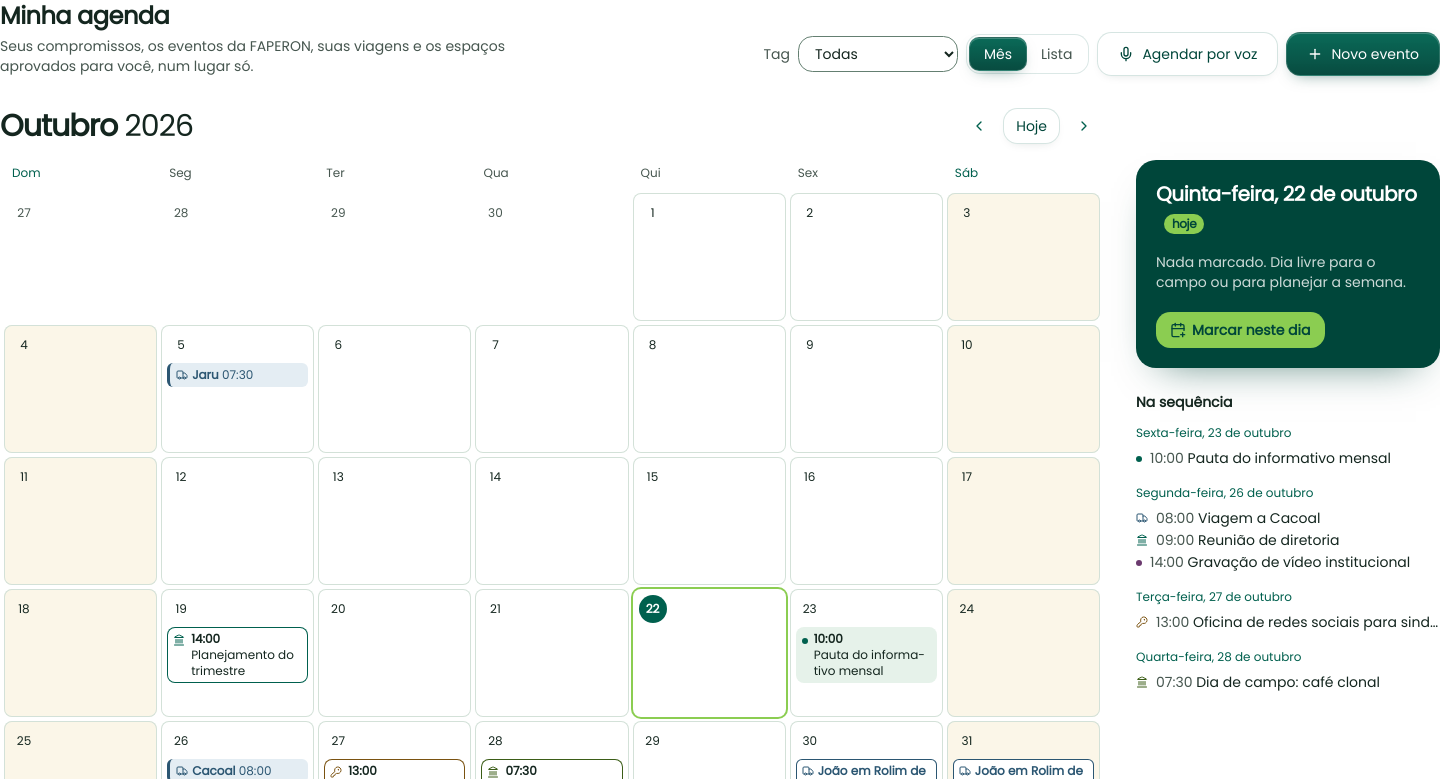
Test case: Agenda individual › valida título e horário
The width and height of the screenshot is (1440, 779).
Click the button "Novo evento" at [1363, 54], box x1=1286 y1=32 x2=1439 y2=76
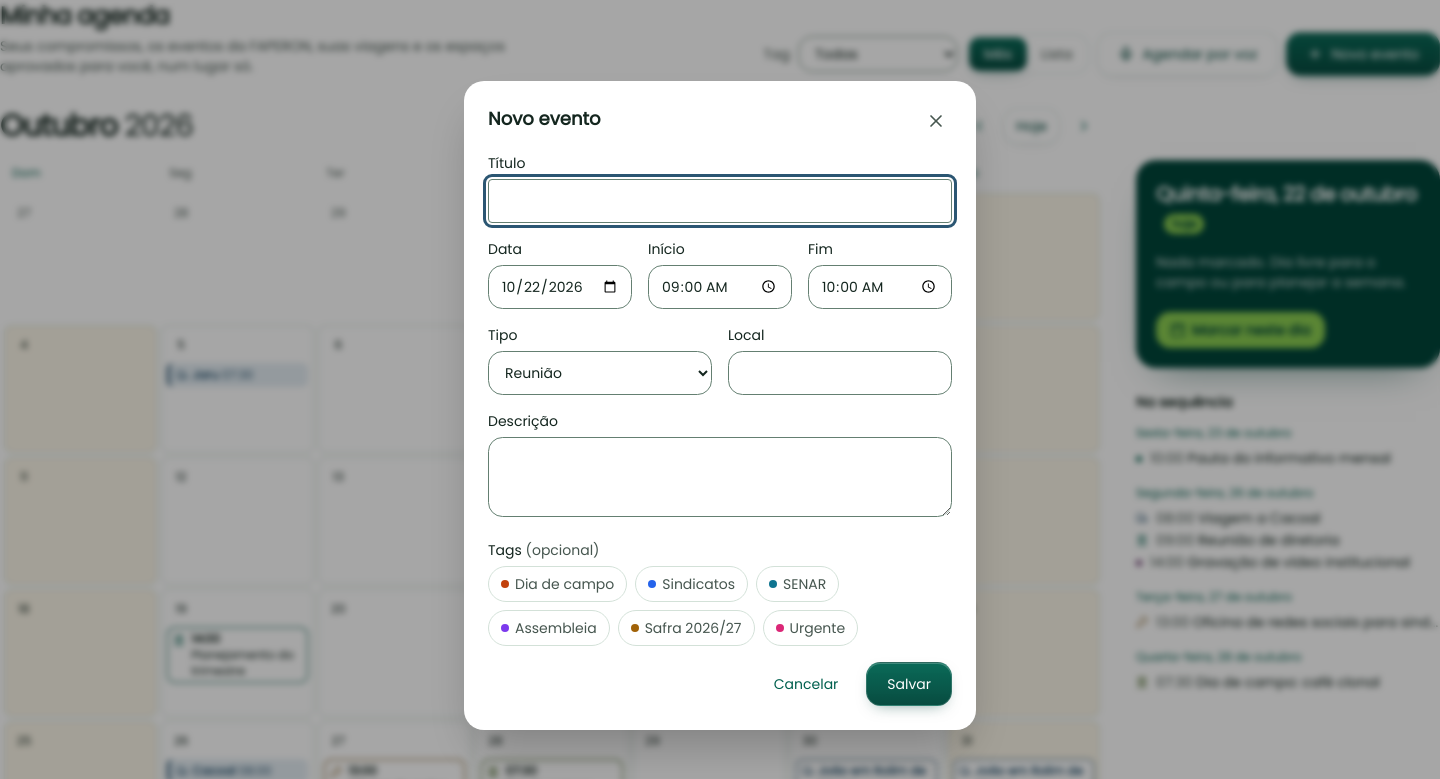
Click the button "Salvar" at [909, 684], box x1=866 y1=662 x2=952 y2=706
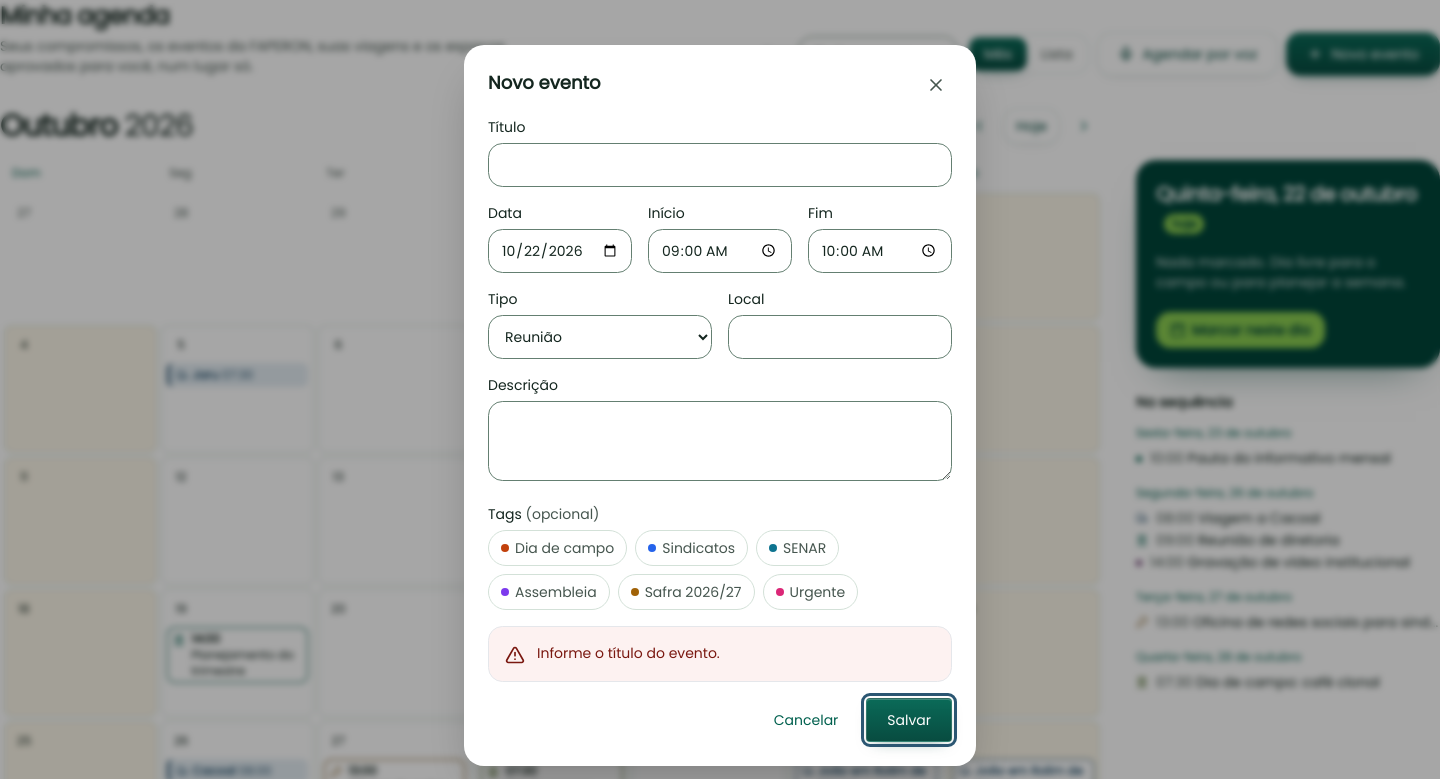
Check: the message reads "Informe o título do evento.", box x1=537 y1=642 x2=720 y2=662
Type "X" into the field labelled "Título" at [720, 164], box x1=488 y1=142 x2=952 y2=186
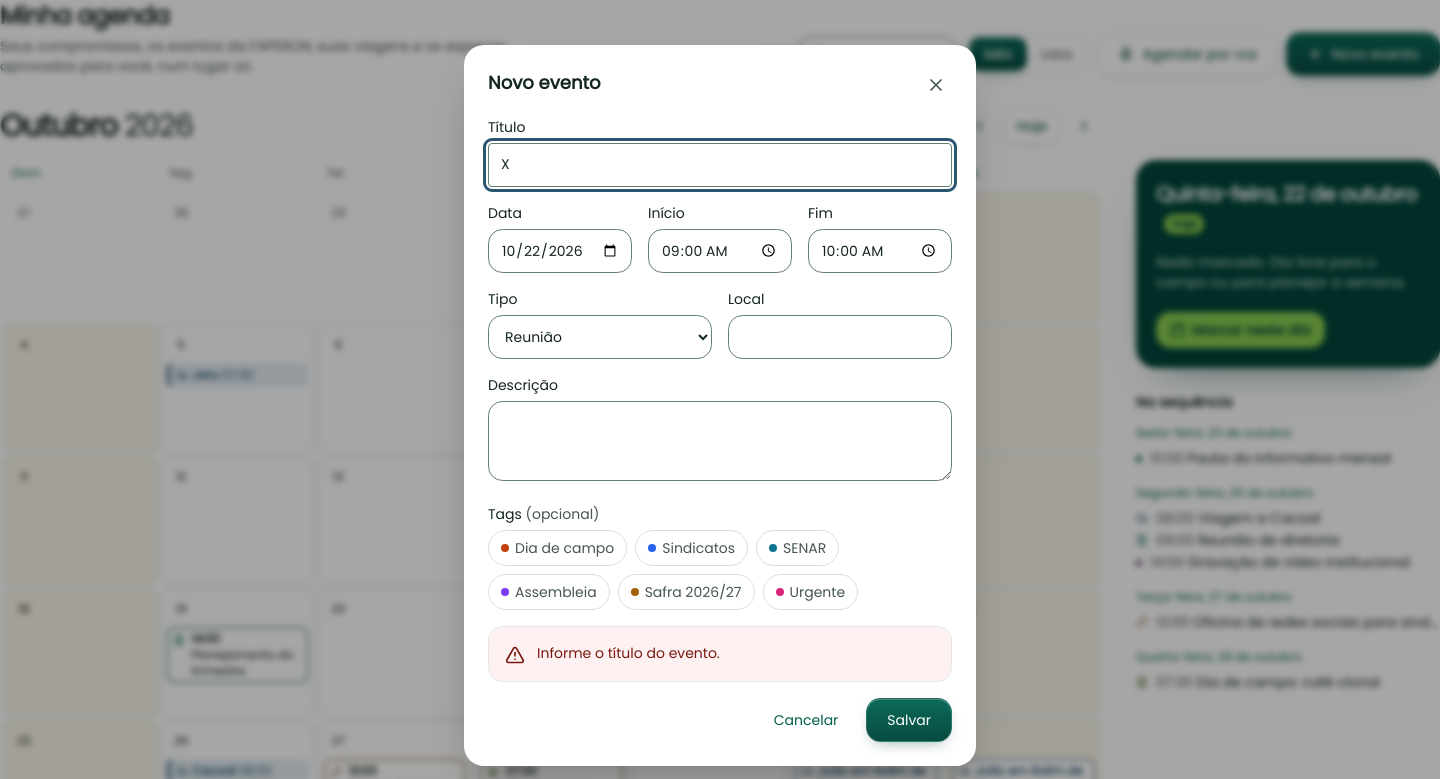
Replace the text in the time field labelled "Fim" with "08:00" at [880, 250], box x1=808 y1=228 x2=952 y2=272
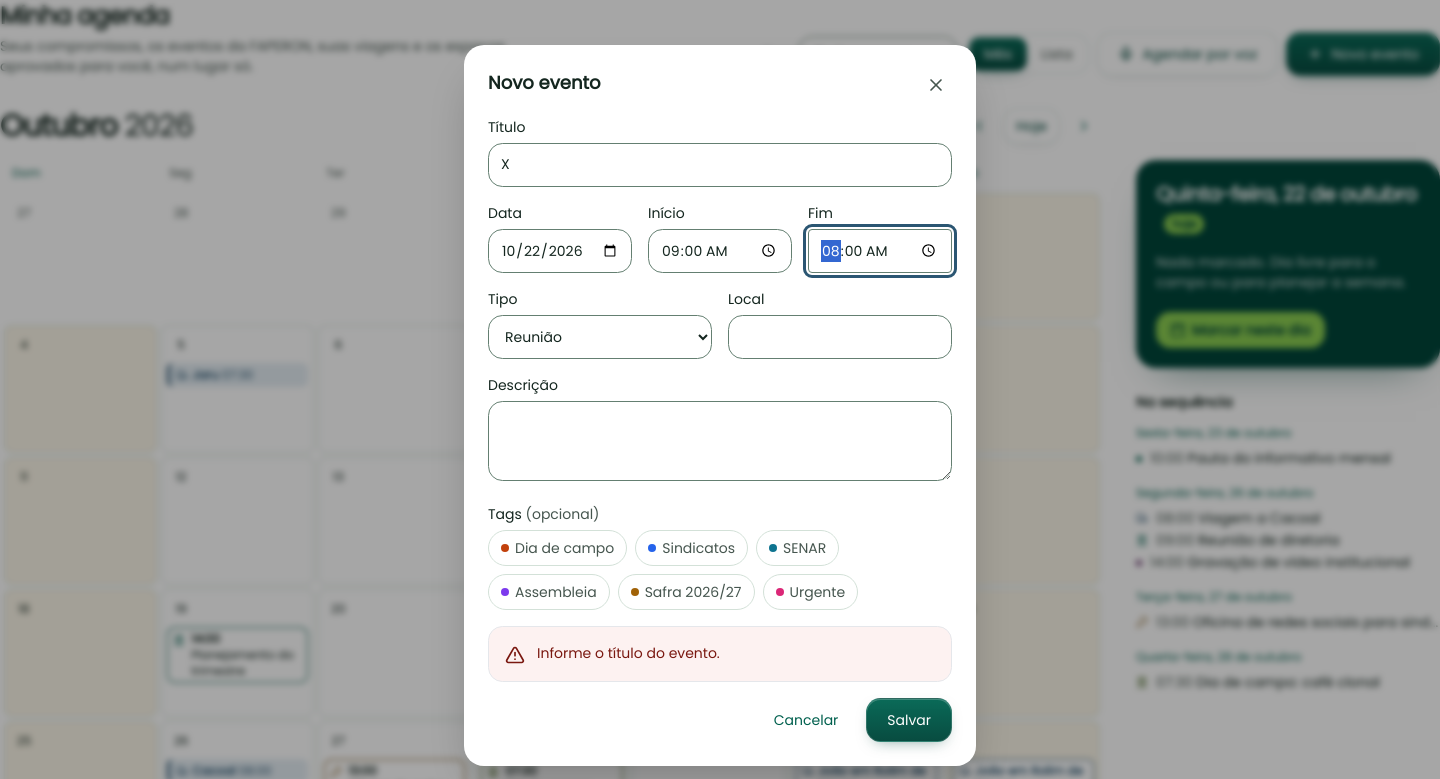
Click the button "Salvar" at [909, 720], box x1=866 y1=698 x2=952 y2=742
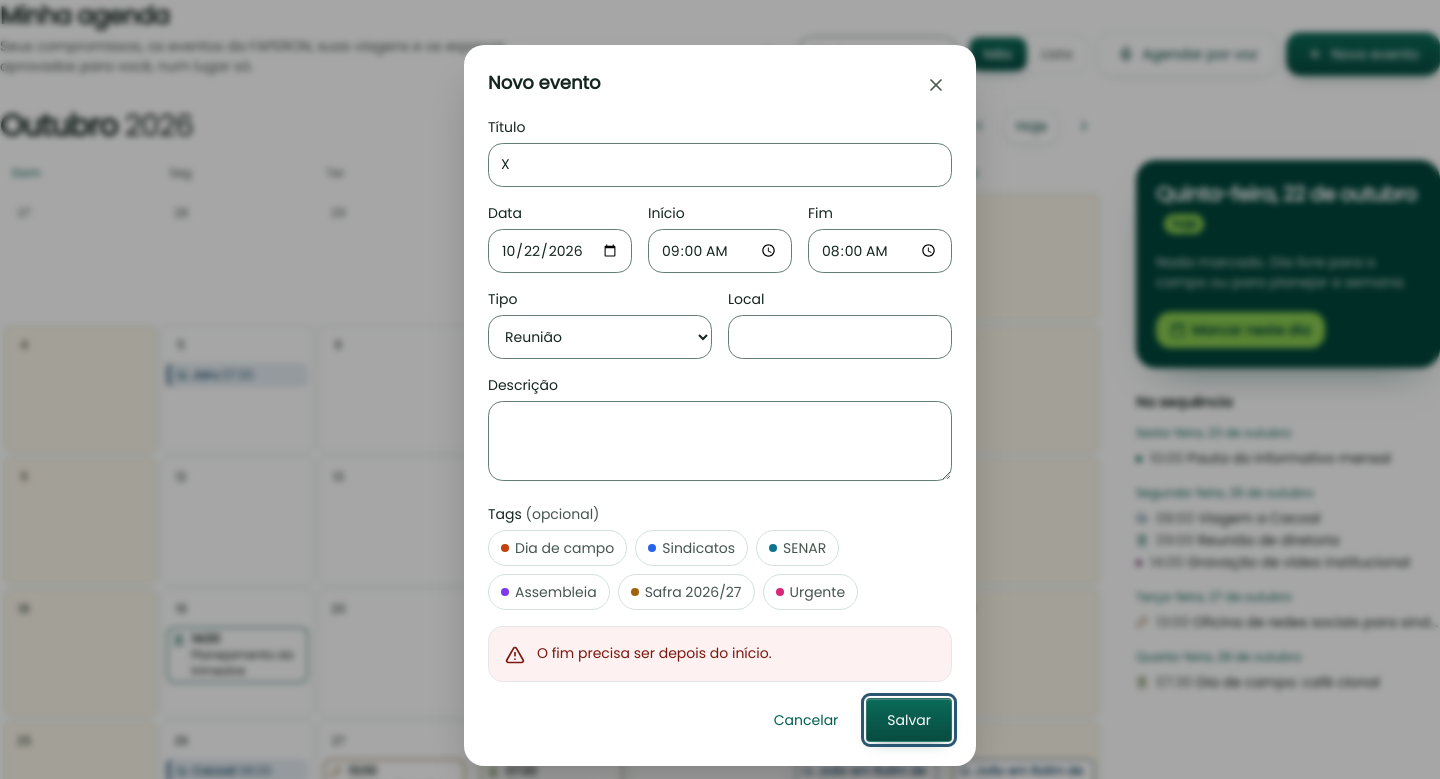
Check: the message reads "O fim precisa ser depois do início.", box x1=537 y1=642 x2=772 y2=662
